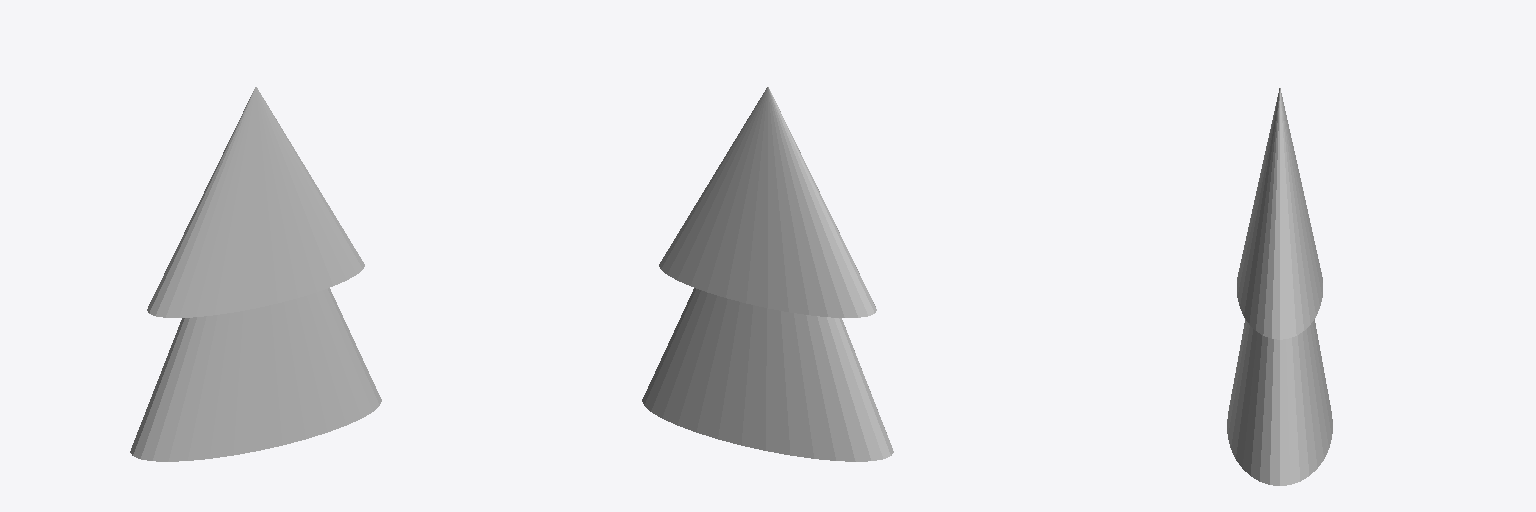
Rendered from SquidBody.mtl.obj.
The picture shows the model from 3 angles: view 1: azimuth 30°, elevation 25°; view 2: azimuth 150°, elevation 25°; view 3: azimuth 270°, elevation 25°; orthographic projection.
Parts seen in each view (by area): view 1: 원뿔, 원뿔.001; view 2: 원뿔, 원뿔.001; view 3: 원뿔, 원뿔.001.
Part boxes in pixels (x1,y1,x2,y2): 원뿔: (130, 288, 381, 461); 원뿔.001: (147, 87, 364, 317); 원뿔: (642, 288, 893, 461); 원뿔.001: (659, 87, 876, 317); 원뿔: (1227, 319, 1332, 485); 원뿔.001: (1237, 88, 1322, 339).
Size of the model in its own units: 0.2585 by 0.3413 by 0.0966.